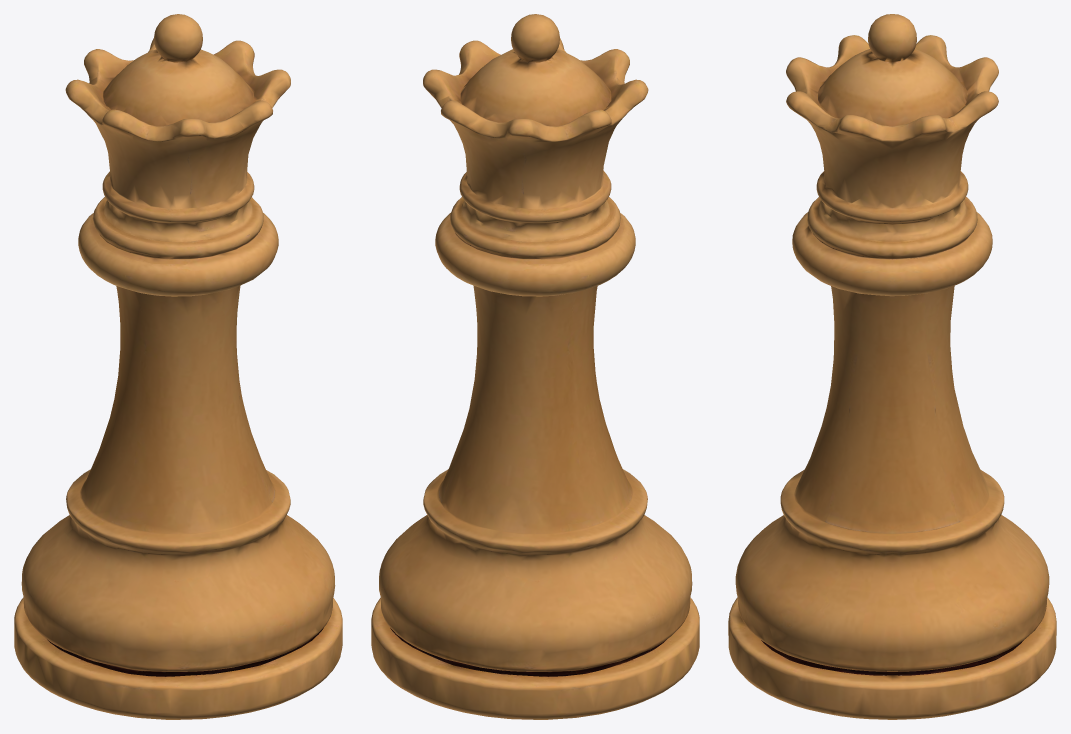
Rendered from queen_light.glb.
The picture shows the model from 3 angles, left to right: view 1: azimuth 30°, elevation 25°; view 2: azimuth 150°, elevation 25°; view 3: azimuth 270°, elevation 25°; orthographic projection.
Visible parts, largest first — view 1: geometry_0; view 2: geometry_0; view 3: geometry_0.
Part boxes in pixels (<box>): geometry_0: <box>14,14,342,719</box>; geometry_0: <box>371,14,699,719</box>; geometry_0: <box>728,14,1056,719</box>.
Size of the model in its own units: 0.6044 by 1.3 by 0.6044.
Materials: 1 (1 with a texture image).
